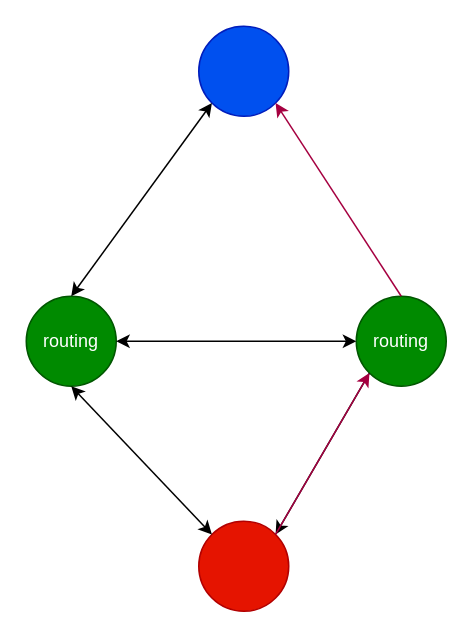
Some shapes in this 473 by 638 pixel diagram are drawn without their labels. The centre of each missing label's shape, as x and y in pixels:
Client: point (243, 565)
Dest: point (243, 70)
